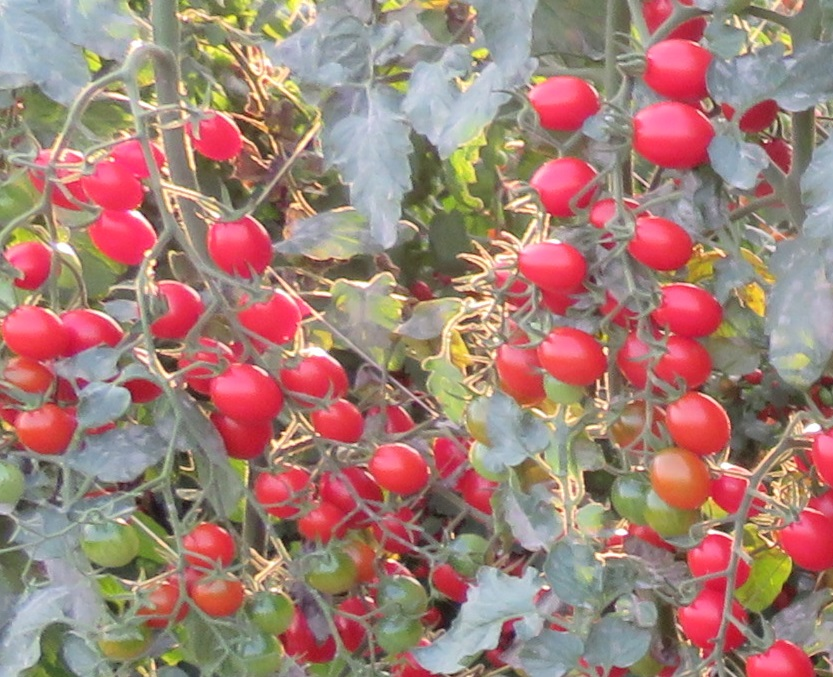green: (73, 521, 140, 570), (606, 470, 648, 531), (302, 554, 358, 594), (372, 610, 421, 655), (378, 575, 429, 618), (248, 589, 297, 633), (446, 533, 494, 577), (464, 394, 494, 449), (1, 180, 35, 226), (467, 441, 499, 484), (1, 456, 25, 506)
orange: (533, 322, 607, 389), (666, 393, 732, 458), (651, 448, 715, 514), (645, 343, 720, 391), (14, 405, 77, 459), (366, 448, 433, 497), (189, 576, 243, 617), (1, 356, 55, 394)
red: (630, 105, 711, 173), (204, 364, 287, 423), (204, 214, 274, 280), (641, 35, 711, 101), (648, 283, 729, 339), (619, 214, 697, 270), (84, 206, 159, 263), (526, 76, 598, 135), (530, 159, 599, 220), (679, 591, 748, 652), (77, 158, 152, 214), (319, 466, 385, 528), (229, 284, 302, 340), (510, 241, 589, 291), (777, 505, 833, 574), (687, 531, 751, 590), (143, 280, 206, 339), (281, 347, 350, 398), (3, 307, 68, 359), (186, 105, 245, 161), (209, 410, 275, 459), (255, 465, 316, 517), (58, 308, 126, 354), (708, 465, 768, 516), (643, 1, 706, 42), (5, 240, 55, 291), (293, 501, 350, 545), (746, 641, 814, 677), (184, 522, 234, 570), (107, 140, 167, 177), (373, 510, 422, 554), (722, 97, 778, 134), (312, 402, 361, 443), (614, 331, 645, 394), (366, 403, 415, 435), (428, 563, 468, 599), (813, 429, 833, 489), (410, 278, 431, 300)
